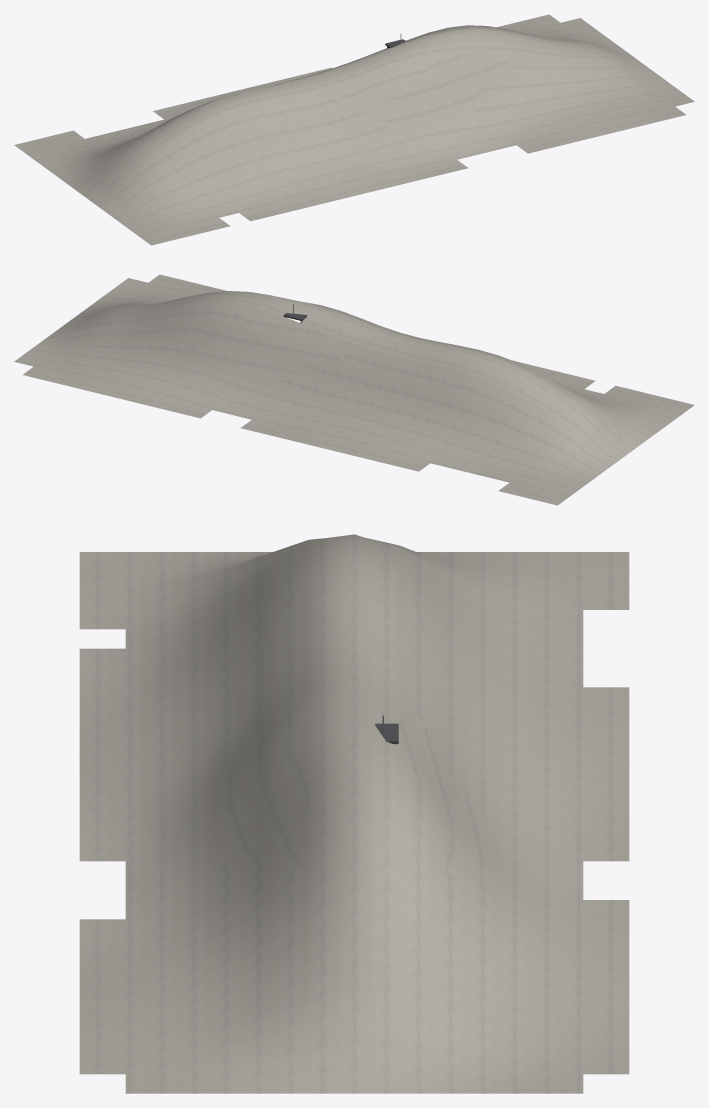
The model's file is env_ridge_farfield.glb.
The picture shows the model from 3 angles, top to bottom: view 1: azimuth 30°, elevation 25°; view 2: azimuth 150°, elevation 25°; view 3: azimuth 270°, elevation 25°; orthographic projection. The views are drawn at different scales.
Parts seen in each view (by area): view 1: ridge_terrain; view 2: ridge_terrain; view 3: ridge_terrain.
Part boxes in pixels (x1=…): ridge_terrain: x1=14, y1=14, x2=694, y2=245; ridge_terrain: x1=14, y1=274, x2=694, y2=505; ridge_terrain: x1=79, y1=534, x2=629, y2=1093.
Bounding box in the file's own units: 80 × 10.6 × 34.29.
Materials: 5 (1 with a texture image).
